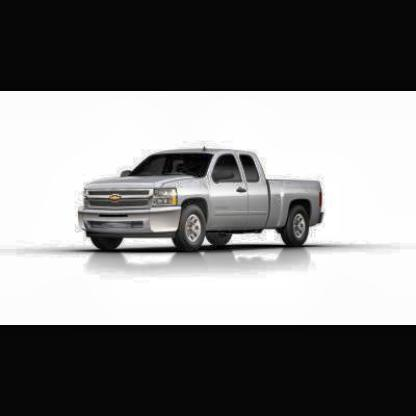Chevrolet Silverado 1500 Extended Cab 2012: (78, 144, 328, 255)
